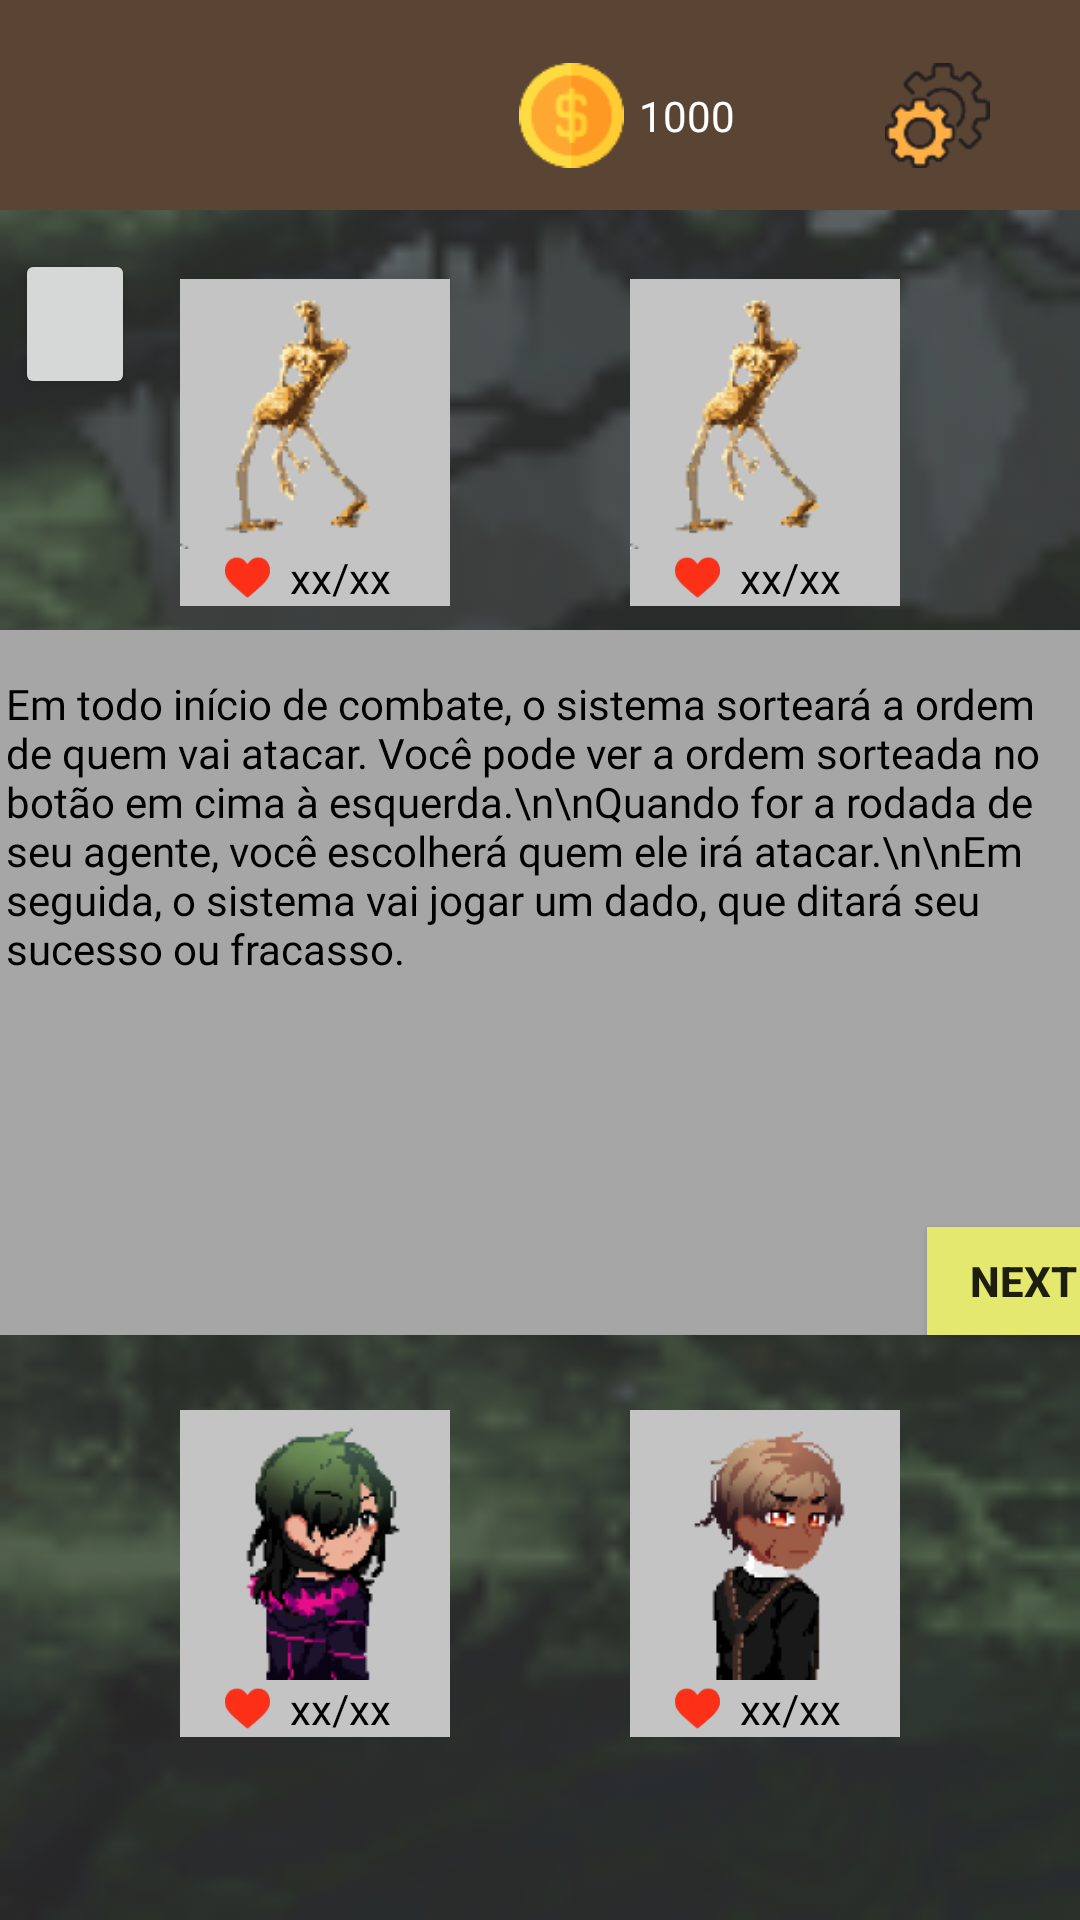

Point at icon controls on the screen. Image size 1080*1920, points as [x,y].
config: [937,115]
coracao: [247,577], [697,577], [247,1708], [697,1708]
criatura esqueletobestial: [315,414], [765,414]
moeda: [571,115]
